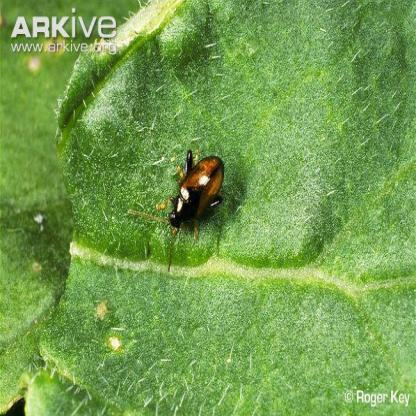beetle: (166, 146, 230, 240)
